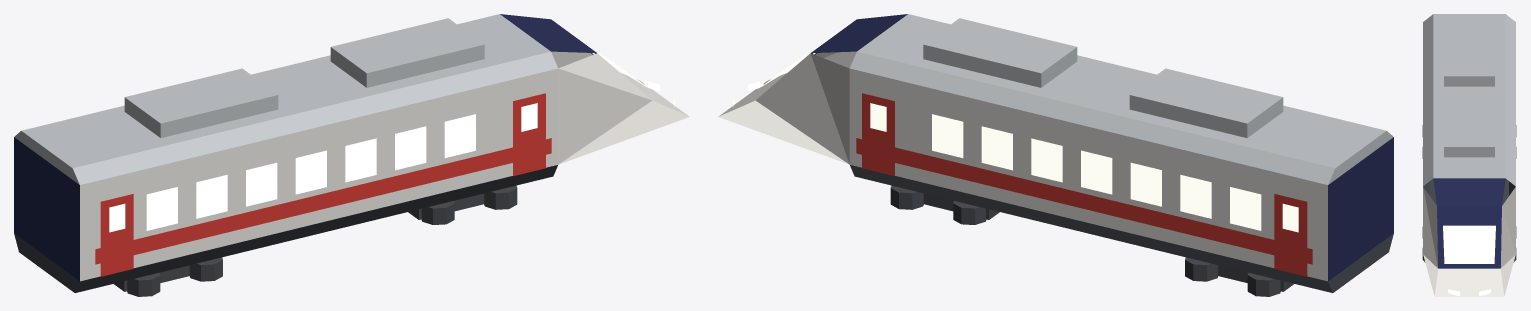
Rendered from tra-emu3000.glb.
3 views of the same model, side by side, from view 1: azimuth 30°, elevation 25°; view 2: azimuth 150°, elevation 25°; view 3: azimuth 270°, elevation 25° (orthographic). The views are drawn at different scales.
Visible parts, largest first — view 1: tra-emu3000_root; view 2: tra-emu3000_root; view 3: tra-emu3000_root.
Boxes of the visible parts, x1,y1,x2,y2 form: tra-emu3000_root: (14,14,689,296); tra-emu3000_root: (718,14,1393,296); tra-emu3000_root: (1422,14,1516,296).
Bounding box in the file's own units: 16.85 × 4.04 × 3.16.
Materials: 2 (2 with a texture image).
